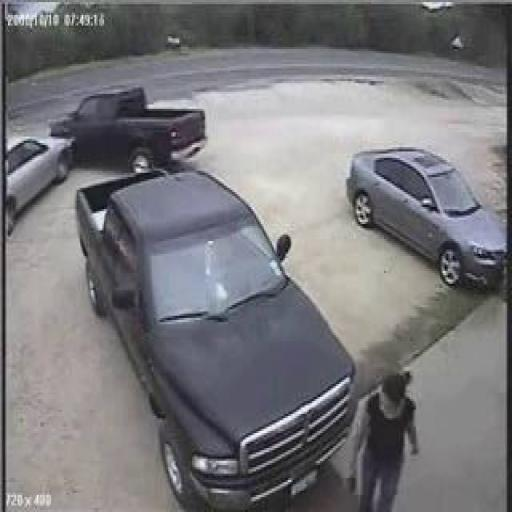Car: (81, 176, 344, 479), (344, 144, 505, 288), (52, 96, 210, 174), (8, 134, 68, 218)
Minor Accident: (1, 94, 201, 177)
